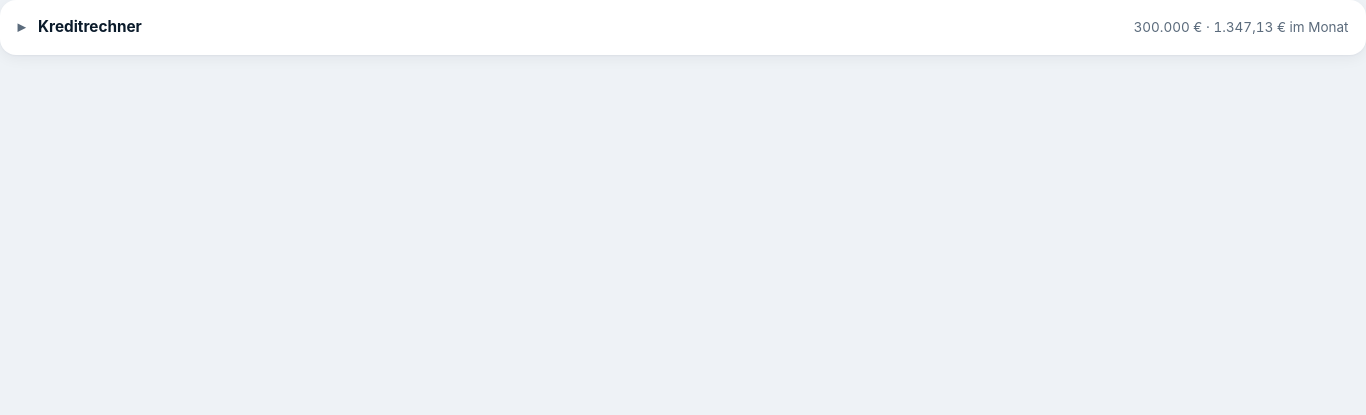
it: Kreditrechner (Finanzen) › warnt, wenn die Rate die Zinsen nicht deckt
This screenshot has width=1366, height=415.
Step 1. Click the button "▸ Kreditrechner" → (80, 27), box x1=18 y1=16 x2=142 y2=39
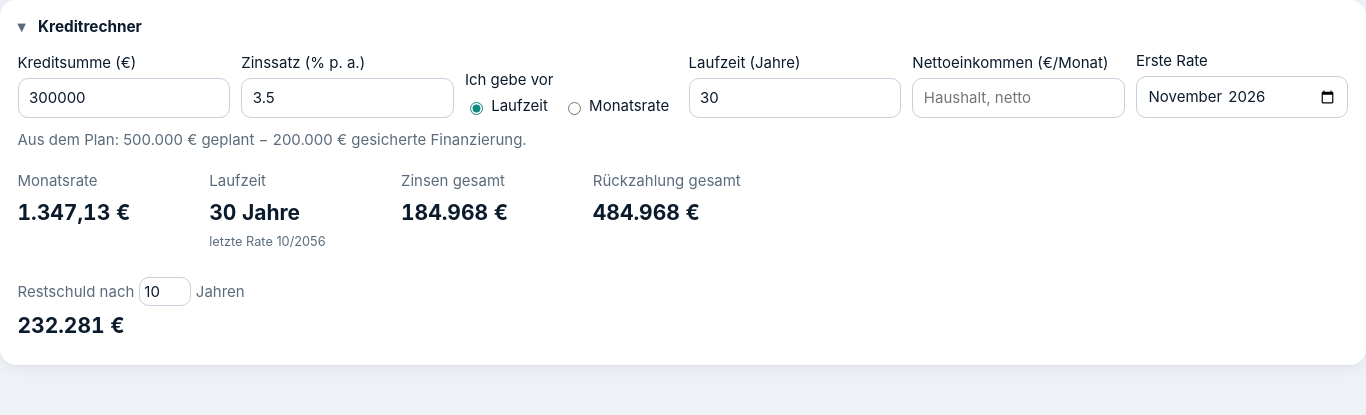
Step 2. Replace the text in the number field labelled "Zinssatz" with "4" → (347, 98), box x1=241 y1=78 x2=454 y2=118
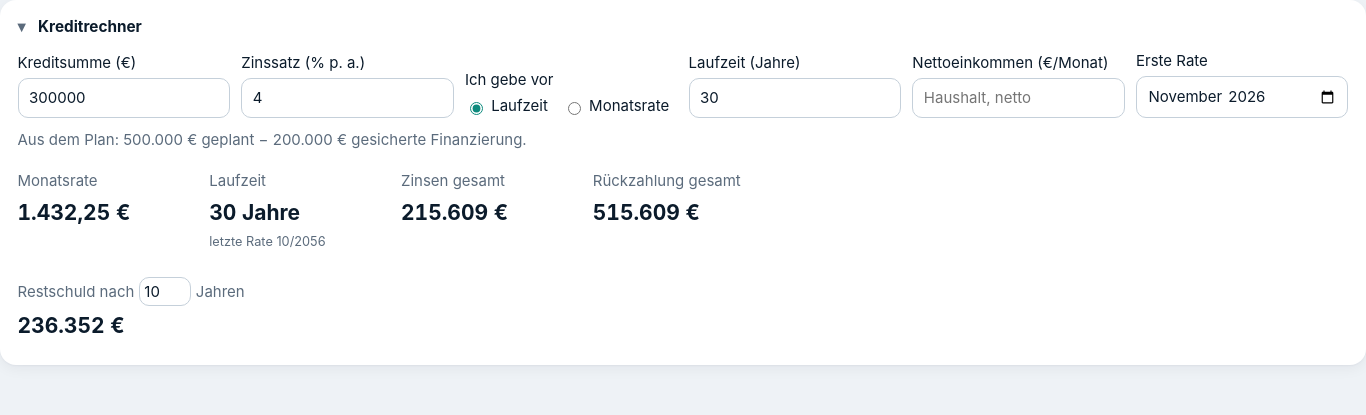
Step 3. Click the radio button labelled "Monatsrate" → (574, 108), box x1=568 y1=102 x2=581 y2=115
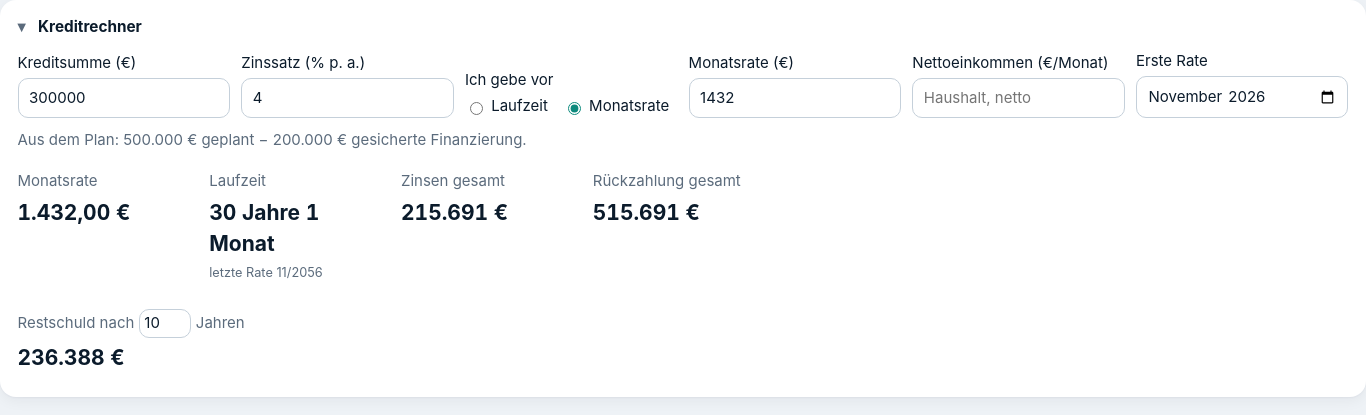
Step 4. Replace the text in the number field labelled "Monatsrate (€)" with "500" → (795, 98), box x1=689 y1=78 x2=901 y2=118
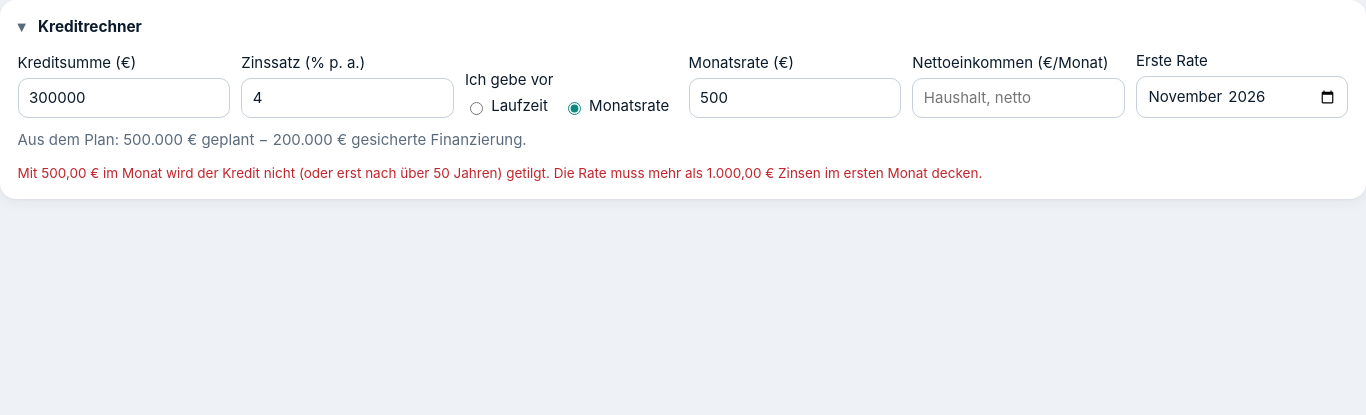
Expected: the text "wird der Kredit nicht" shows "1.000,00 € Zinsen", x1=18 y1=165 x2=982 y2=181
